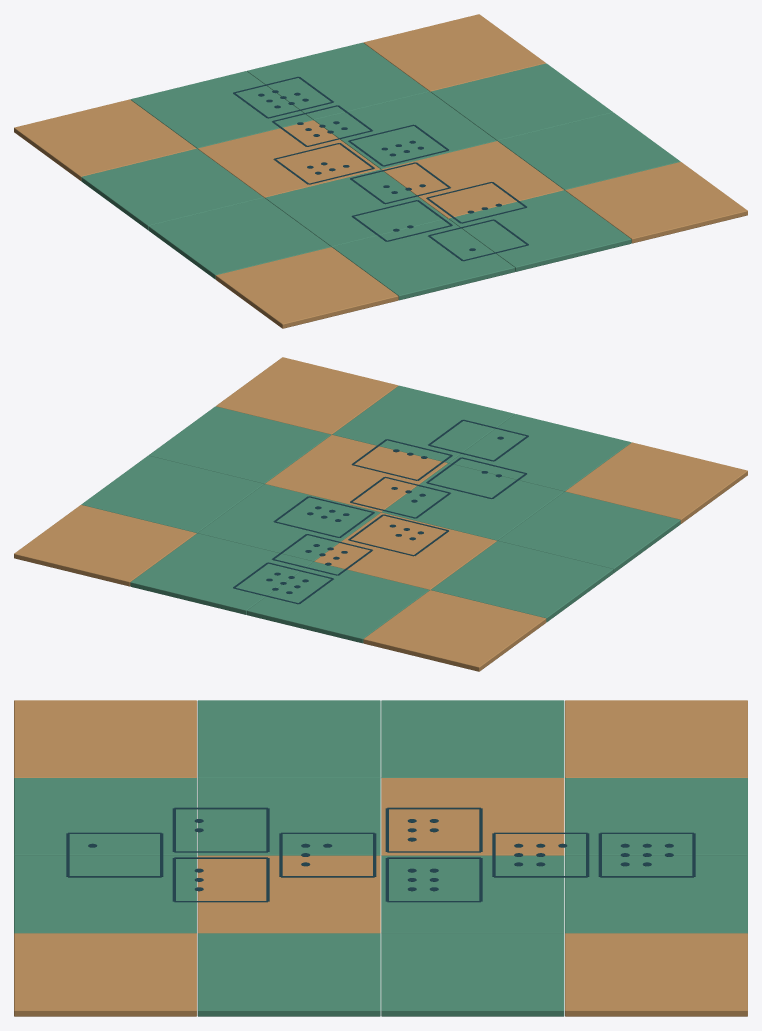
3 renders of one model, top to bottom at view 1: azimuth 30°, elevation 25°; view 2: azimuth 150°, elevation 25°; view 3: azimuth 270°, elevation 25°, orthographic. The views are drawn at different scales.
Visible parts, largest first — view 1: RUBBER_Tile_0_0, RUBBER_Tile_3_0, RUBBER_Tile_2_0, RUBBER_Tile_1_0, RUBBER_Tile_0_3, RUBBER_Tile_0_2, RUBBER_Tile_0_1, RUBBER_Tile_3_1, RUBBER_Tile_3_3, RUBBER_Tile_3_2, RUBBER_Tile_2_3, RUBBER_Tile_1_3 (+4 smaller); view 2: RUBBER_Tile_0_3, RUBBER_Tile_3_3, RUBBER_Tile_1_3, RUBBER_Tile_2_3, RUBBER_Tile_0_0, RUBBER_Tile_0_1, RUBBER_Tile_0_2, RUBBER_Tile_3_2, RUBBER_Tile_3_0, RUBBER_Tile_3_1, RUBBER_Tile_2_0, RUBBER_Tile_1_0 (+4 smaller); view 3: RUBBER_Tile_3_1, RUBBER_Tile_3_2, RUBBER_Tile_3_0, RUBBER_Tile_3_3, RUBBER_Tile_0_1, RUBBER_Tile_0_2, RUBBER_Tile_0_0, RUBBER_Tile_0_3, RUBBER_Tile_2_3, RUBBER_Tile_2_0, RUBBER_Tile_2_1, RUBBER_Tile_1_0 (+4 smaller).
Boxes of the visible parts, <box> form: RUBBER_Tile_0_0: <box>215,247,398,328</box>; RUBBER_Tile_3_0: <box>565,162,747,243</box>; RUBBER_Tile_2_0: <box>449,190,631,271</box>; RUBBER_Tile_1_0: <box>332,218,514,300</box>; RUBBER_Tile_0_3: <box>14,99,196,180</box>; RUBBER_Tile_0_2: <box>81,148,263,230</box>; RUBBER_Tile_0_1: <box>148,198,330,279</box>; RUBBER_Tile_3_1: <box>498,112,680,190</box>; RUBBER_Tile_3_3: <box>363,14,545,91</box>; RUBBER_Tile_3_2: <box>431,63,613,140</box>; RUBBER_Tile_2_3: <box>247,42,429,120</box>; RUBBER_Tile_1_3: <box>130,71,312,148</box>; RUBBER_Tile_0_3: <box>363,590,546,671</box>; RUBBER_Tile_3_3: <box>14,505,196,586</box>; RUBBER_Tile_1_3: <box>247,561,429,643</box>; RUBBER_Tile_2_3: <box>130,533,312,614</box>; RUBBER_Tile_0_0: <box>565,442,747,523</box>; RUBBER_Tile_0_1: <box>498,491,680,573</box>; RUBBER_Tile_0_2: <box>431,541,613,622</box>; RUBBER_Tile_3_2: <box>81,455,263,533</box>; RUBBER_Tile_3_0: <box>216,357,398,434</box>; RUBBER_Tile_3_1: <box>148,406,330,483</box>; RUBBER_Tile_2_0: <box>332,385,514,463</box>; RUBBER_Tile_1_0: <box>449,414,631,491</box>; RUBBER_Tile_3_1: <box>197,933,380,1016</box>; RUBBER_Tile_3_2: <box>381,933,564,1016</box>; RUBBER_Tile_3_0: <box>14,933,196,1016</box>; RUBBER_Tile_3_3: <box>565,933,747,1016</box>; RUBBER_Tile_0_1: <box>197,700,380,777</box>; RUBBER_Tile_0_2: <box>381,700,564,777</box>; RUBBER_Tile_0_0: <box>14,700,196,777</box>; RUBBER_Tile_0_3: <box>565,700,747,777</box>; RUBBER_Tile_2_3: <box>565,855,747,933</box>; RUBBER_Tile_2_0: <box>14,855,196,933</box>; RUBBER_Tile_2_1: <box>197,855,380,933</box>; RUBBER_Tile_1_0: <box>14,778,196,855</box>.
Size of the model in its own units: 4 by 0.041 by 4.
